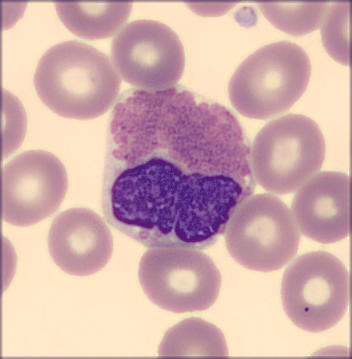EO: (100, 88, 252, 247)
PLT: (233, 3, 257, 30)
RBC: (225, 38, 311, 121), (32, 41, 121, 121), (137, 242, 223, 317), (248, 113, 327, 194), (223, 193, 301, 272), (281, 249, 352, 335), (1, 148, 67, 229), (112, 19, 185, 92), (286, 169, 350, 244), (47, 207, 112, 277), (54, 1, 133, 42), (158, 316, 226, 359), (259, 1, 335, 35), (1, 86, 30, 161), (321, 2, 352, 72)
